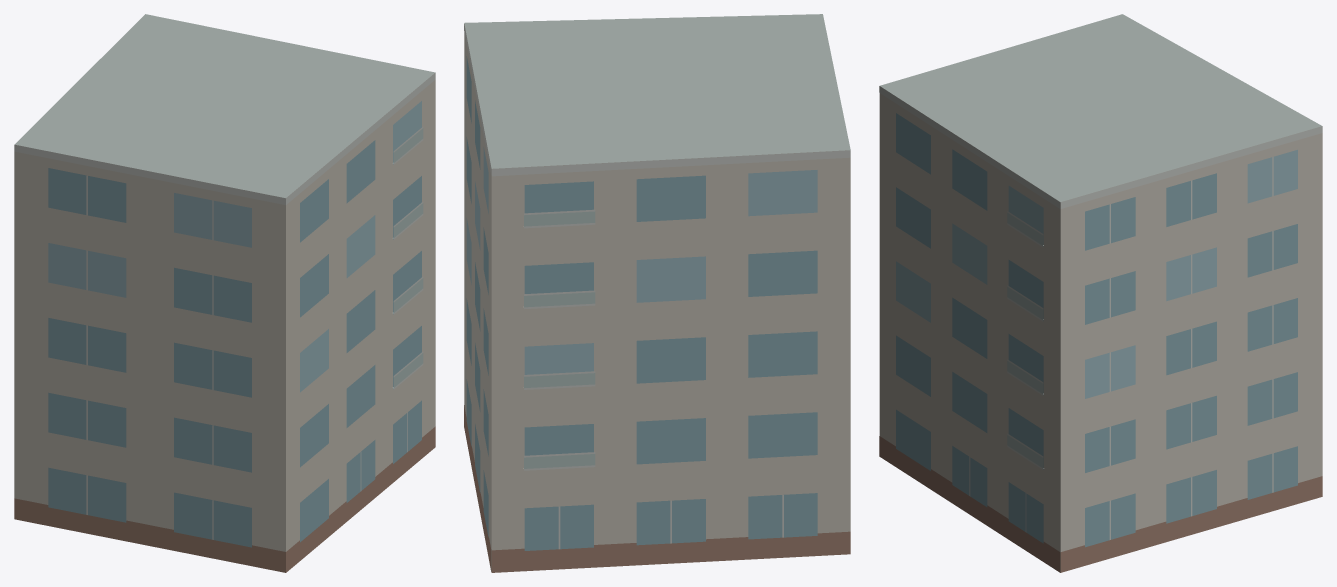
File: survey-upis-32535013.glb
3 renders of one model, left to right at view 1: azimuth 30°, elevation 25°; view 2: azimuth 150°, elevation 25°; view 3: azimuth 270°, elevation 25°, orthographic. The views are drawn at different scales.
Parts seen in each view (by area): view 1: survey-upis-32535013.tmp; view 2: survey-upis-32535013.tmp; view 3: survey-upis-32535013.tmp.
Boxes of the visible parts, left/top/right/bottom form: survey-upis-32535013.tmp: left=14, top=14, right=435, bottom=572; survey-upis-32535013.tmp: left=464, top=14, right=850, bottom=572; survey-upis-32535013.tmp: left=879, top=14, right=1322, bottom=572.
Size of the model in its own units: 14.22 by 13.05 by 14.15.
